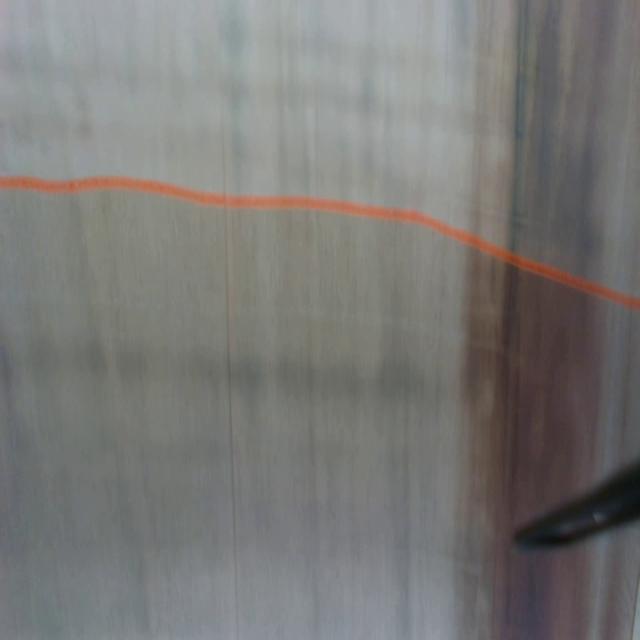color bleeding: (452, 0, 618, 483), (0, 330, 449, 419)
crease: (221, 123, 240, 640)
